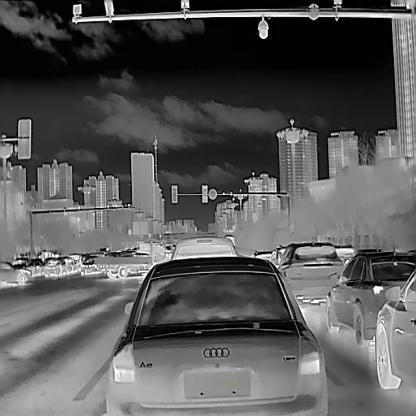car: (105, 254, 327, 416), (326, 249, 414, 345), (374, 267, 415, 389), (274, 240, 343, 296), (170, 236, 240, 260), (0, 260, 32, 284), (80, 250, 106, 274), (44, 256, 65, 276)
truck: (93, 241, 166, 277)
